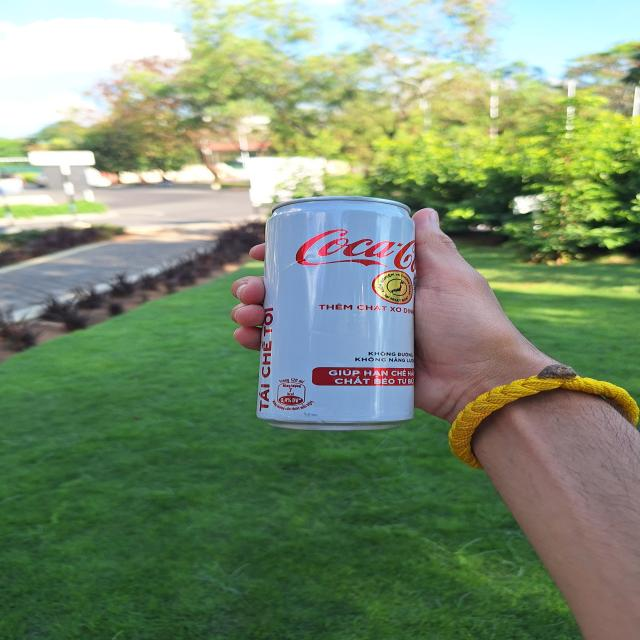Coca Cola Plus: (268, 203, 430, 431)
